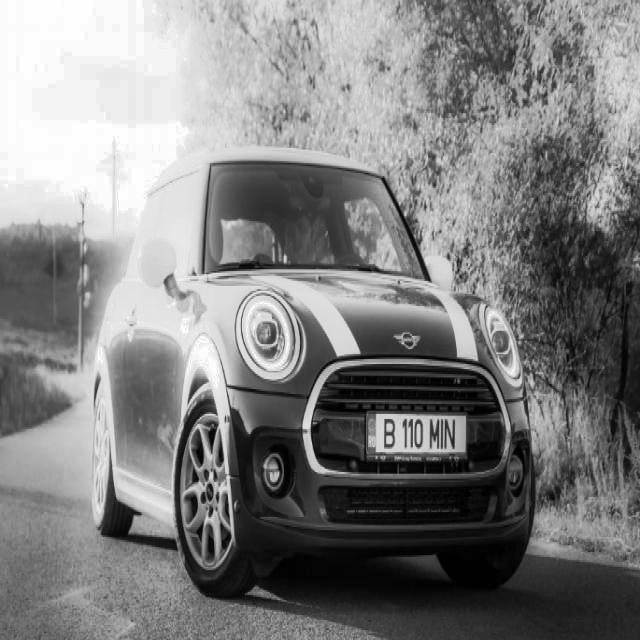Car: (84, 134, 540, 609)
